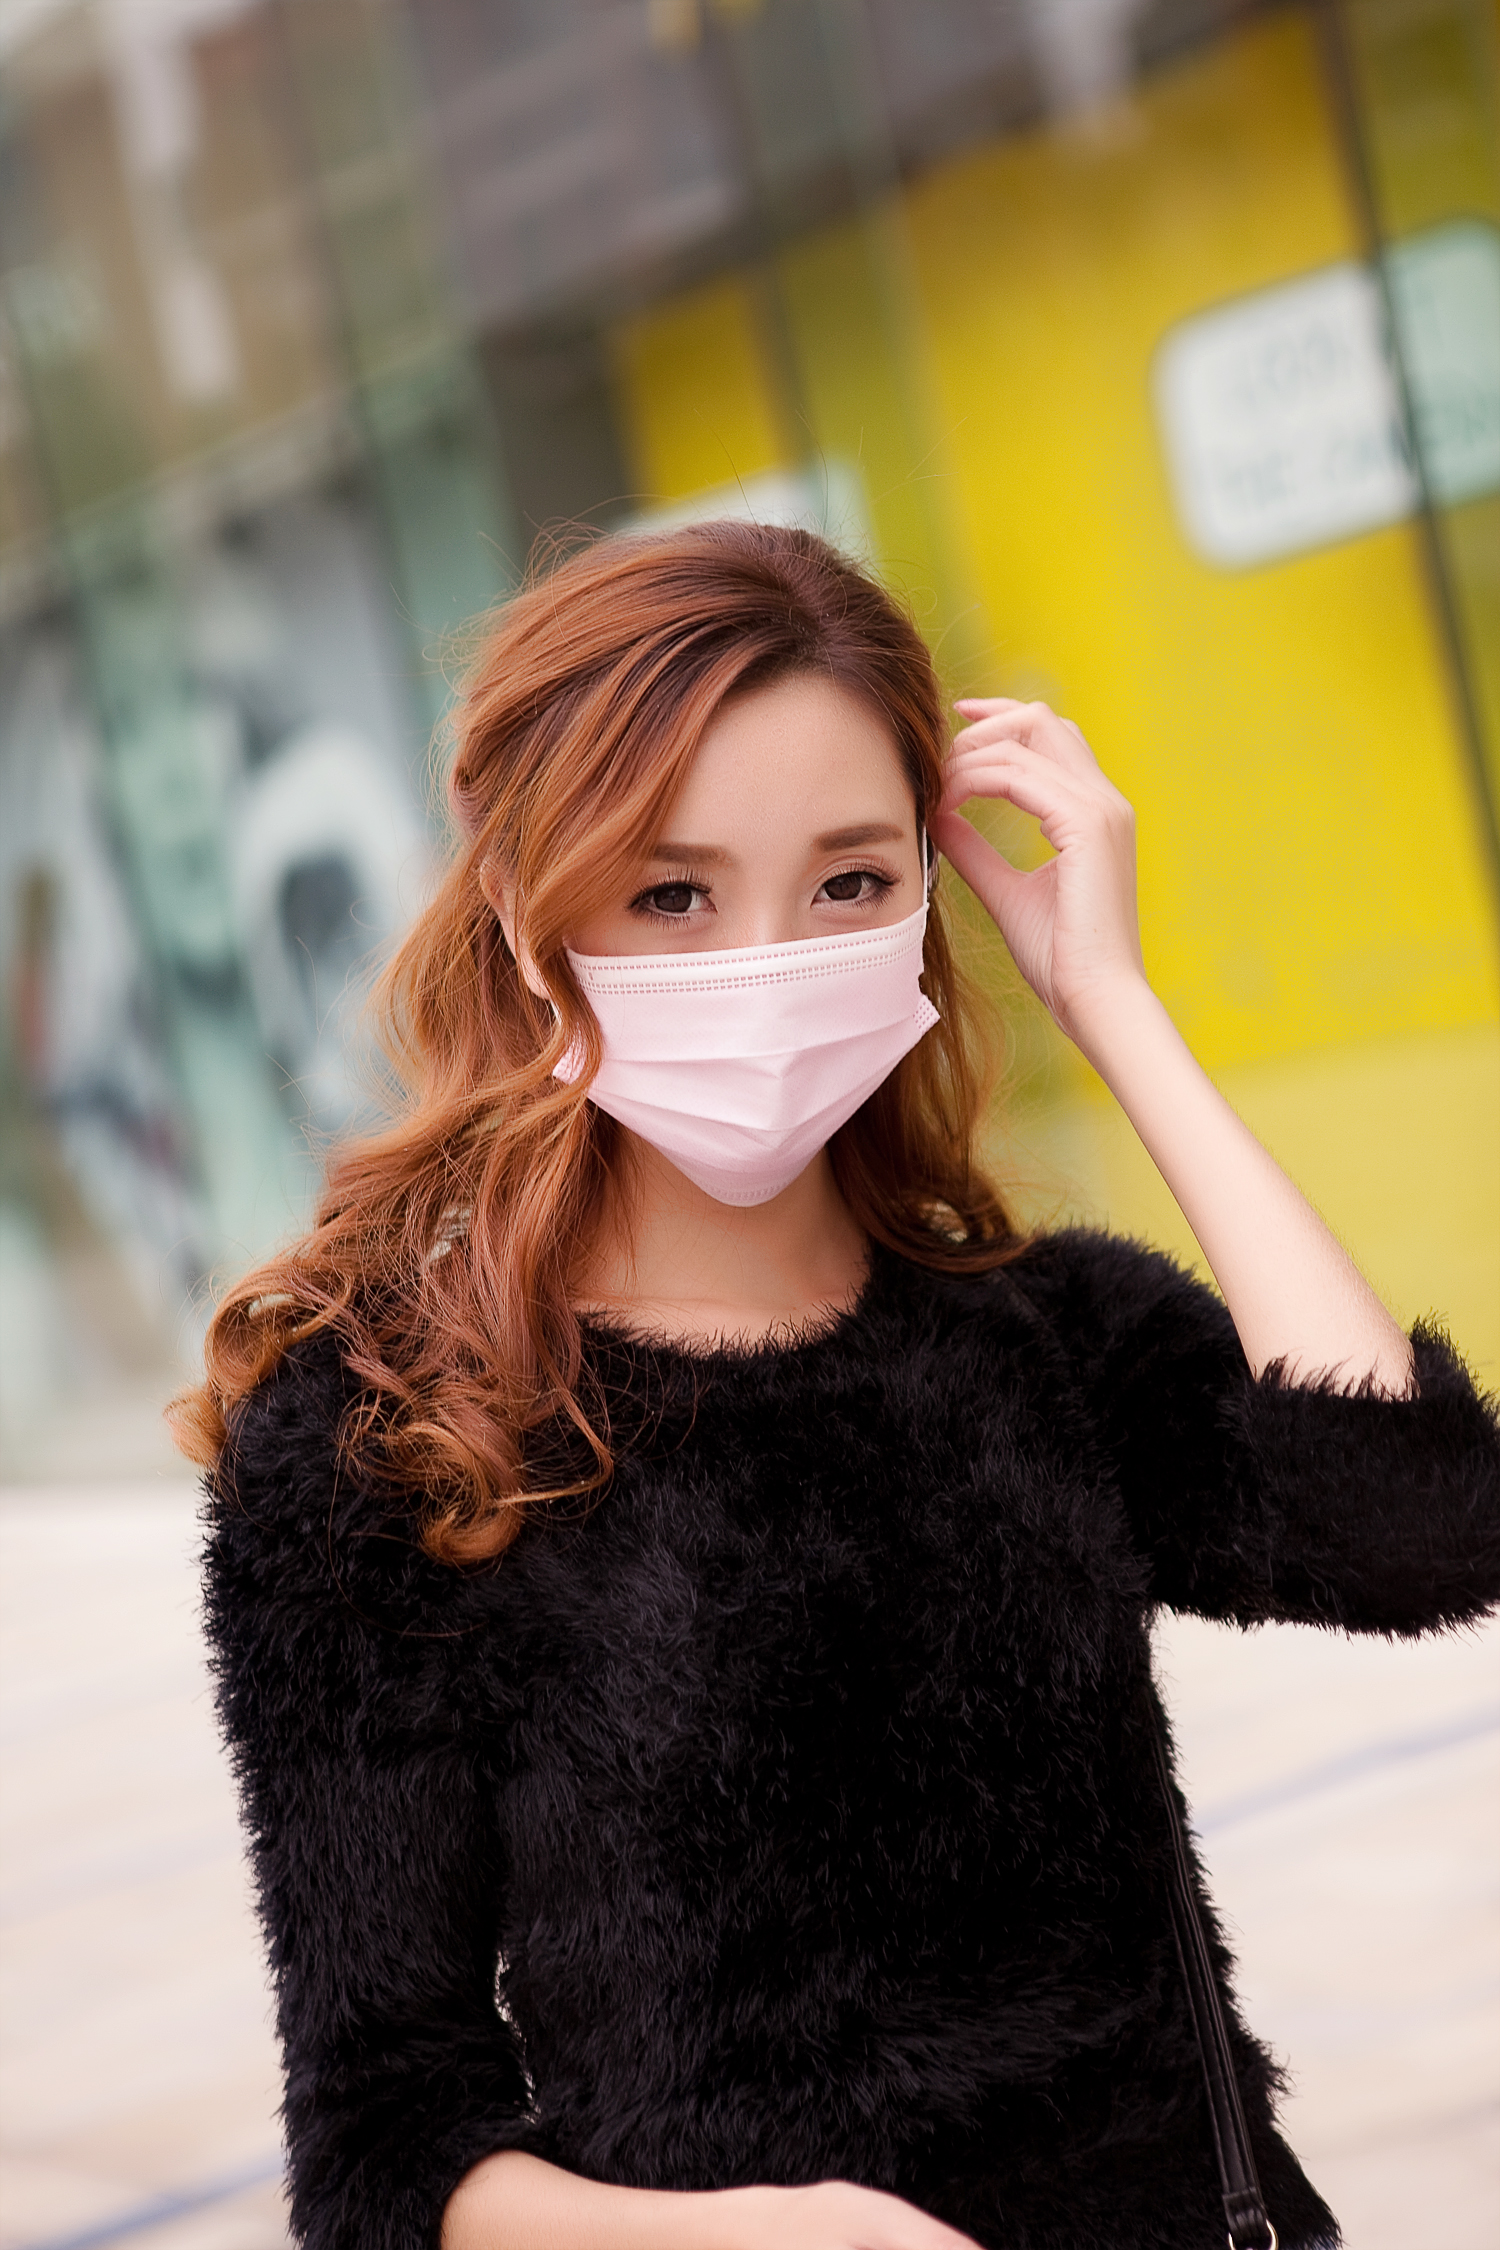face_mask: (574, 662, 931, 1196)
